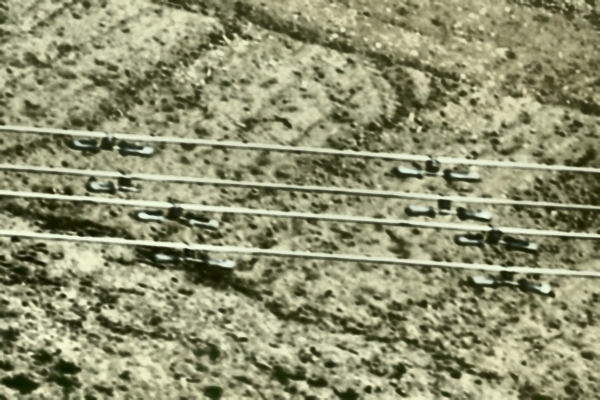damper: (462, 260, 557, 297), (391, 150, 483, 186), (127, 196, 221, 231), (145, 238, 236, 273), (451, 220, 542, 254), (403, 191, 495, 222), (61, 128, 154, 157)
damper_defect: (83, 166, 148, 196)
